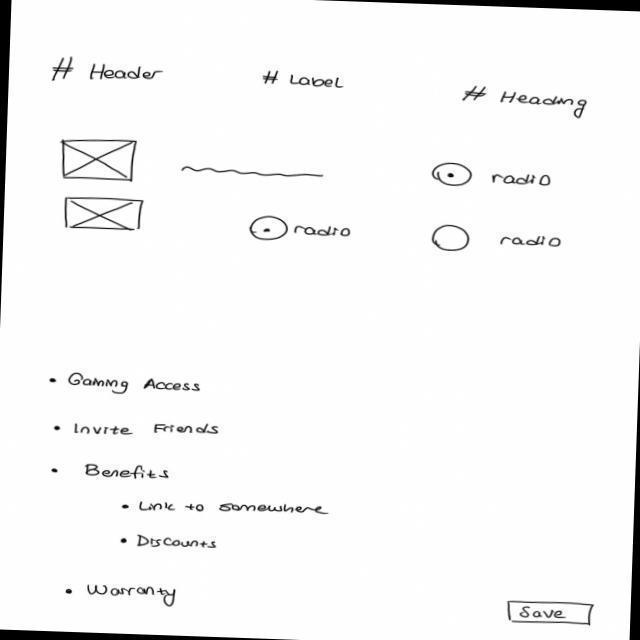button: (507, 599, 595, 627)
image: (61, 138, 139, 182), (62, 196, 145, 233)
label: (460, 84, 591, 120), (139, 498, 331, 520), (50, 56, 168, 90), (66, 371, 203, 399), (74, 418, 222, 442), (85, 583, 178, 608), (262, 70, 347, 92), (84, 463, 173, 483), (135, 533, 220, 552)
radio: (431, 224, 473, 257), (432, 162, 477, 191), (250, 215, 292, 243)
text: (180, 164, 326, 181)
